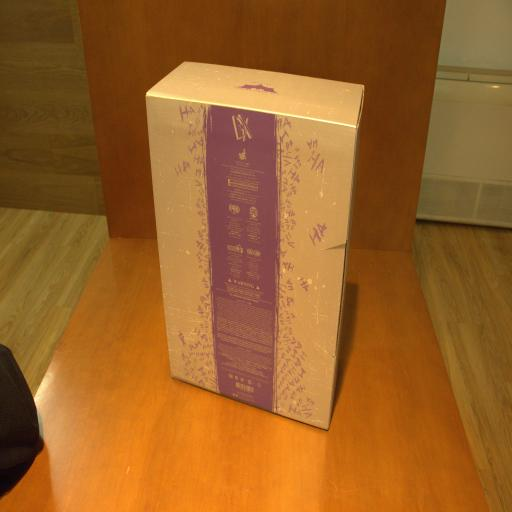Joker: (144, 58, 365, 434)
